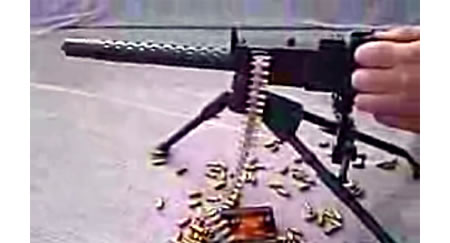rifle: (59, 20, 413, 226)
